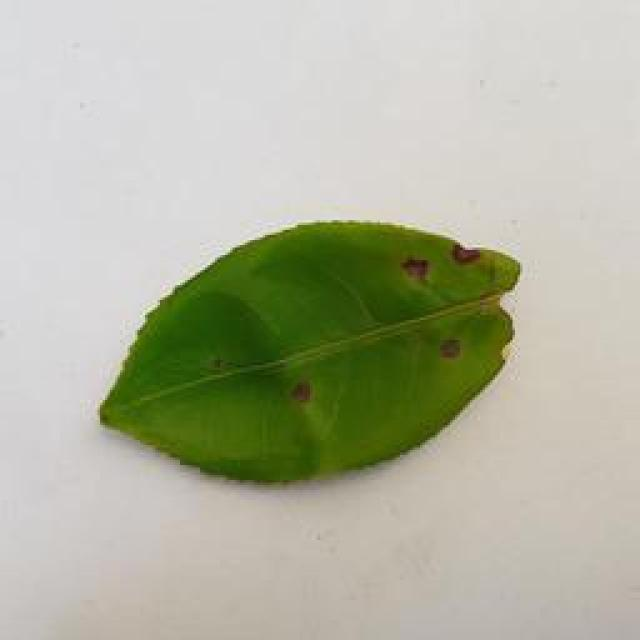Helopeltis: (102, 212, 550, 492)
